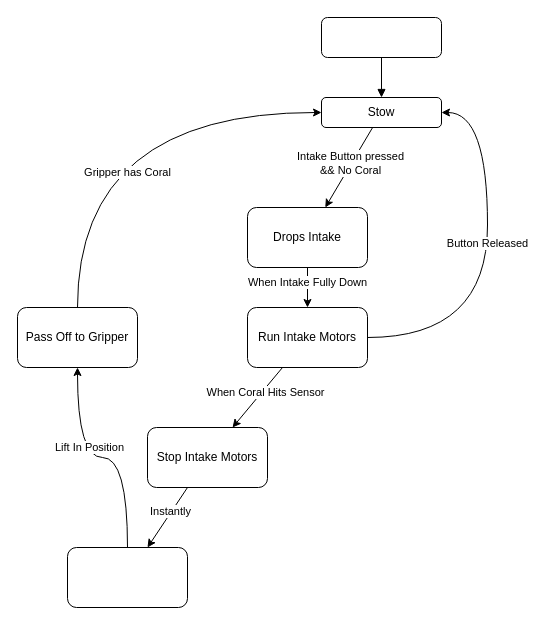
The diagram is 545 pixels wide and 625 high, and some of its shapes have lost their labels. Here are the shapes that lost their labels. From the top down, the box of each, then its label:
(320, 16, 442, 58): Startup
(66, 546, 188, 608): Move to Hand-Off Position
